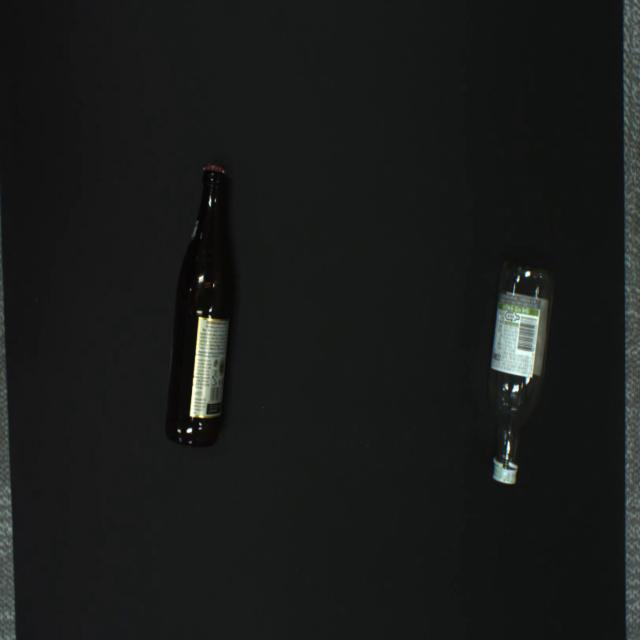beer-bottle: (165, 165, 233, 447)
soju-bottle: (488, 263, 554, 484)
